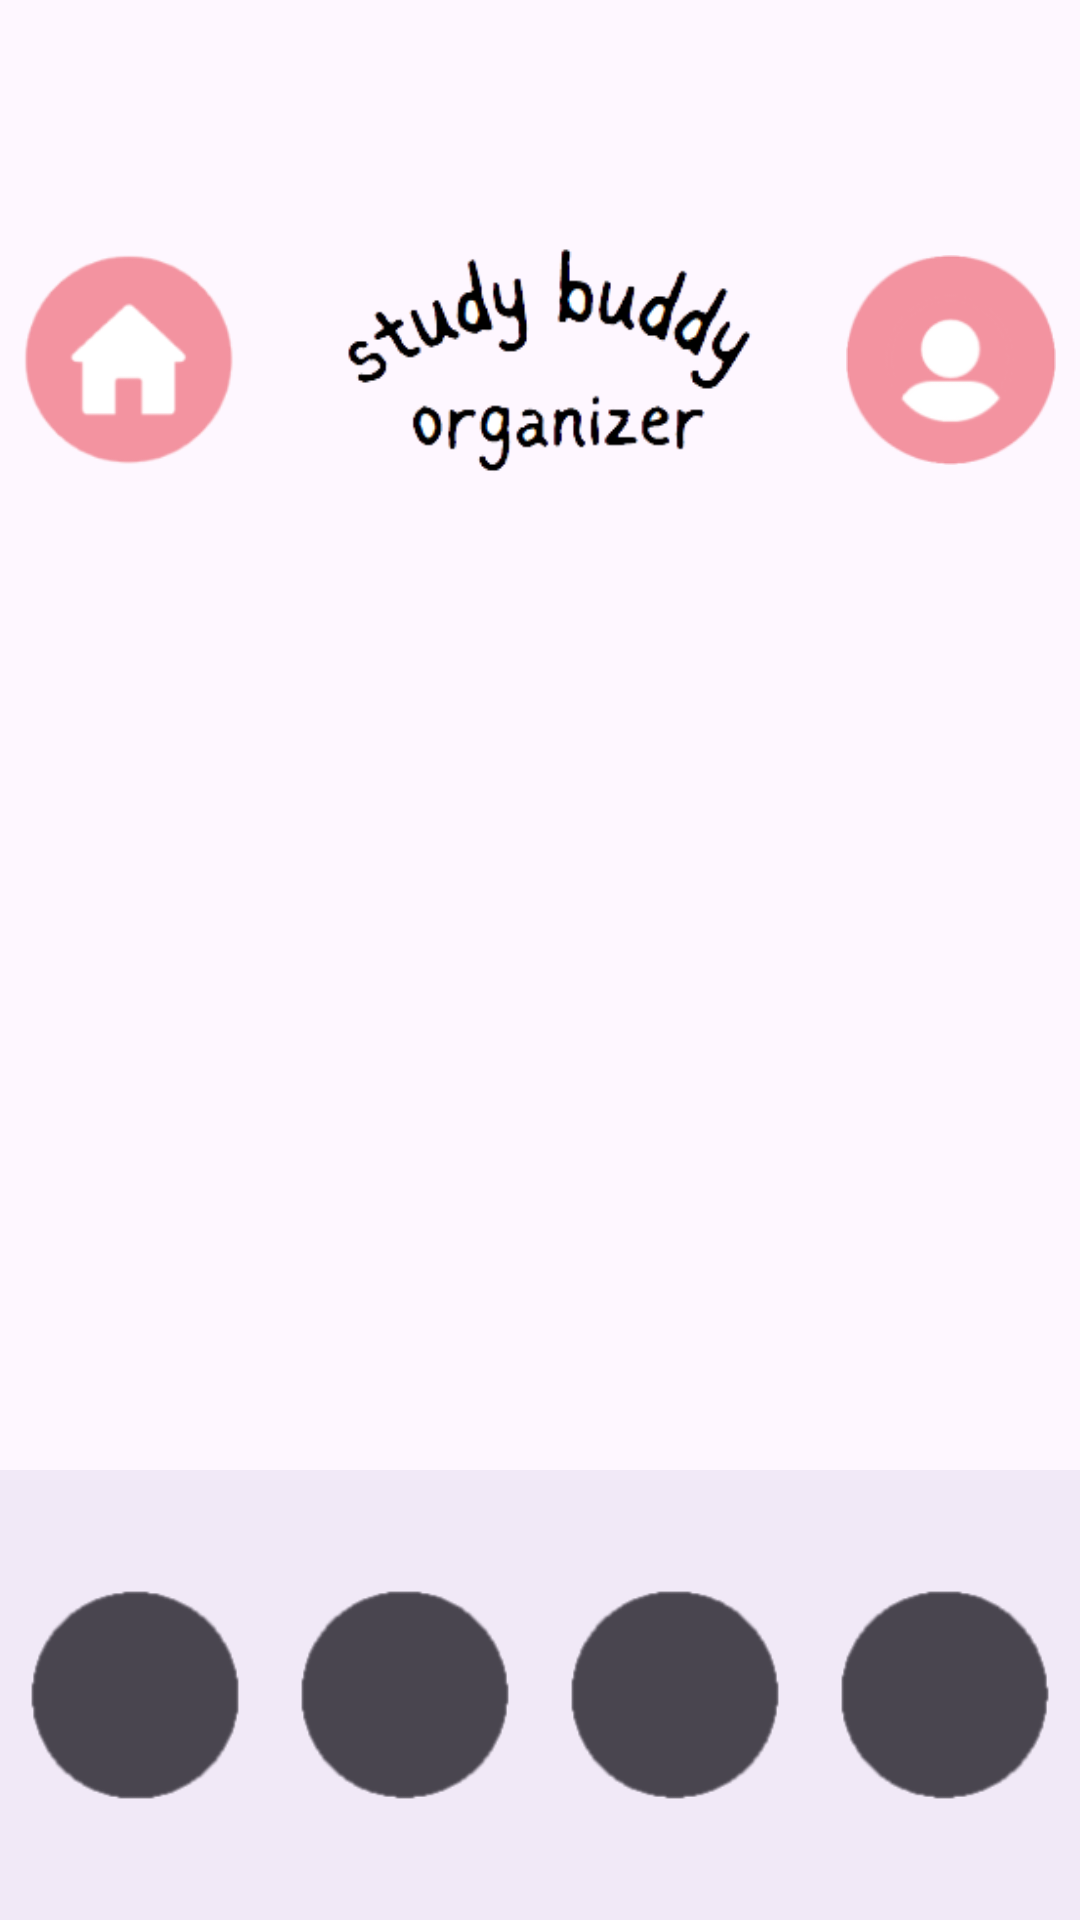

Named icons in this screenshot (1080*1920) and their bounding boxes, region(x1, y1, x2, y2):
Profile: region(846, 255, 1056, 465)
